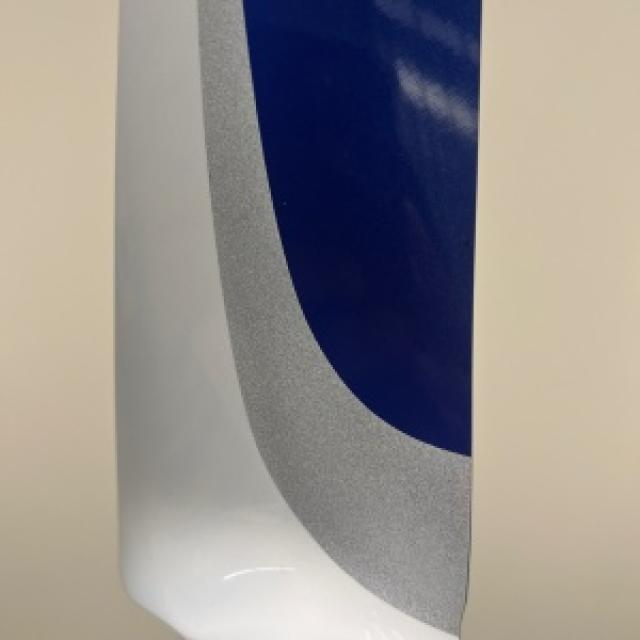healthy: (115, 0, 467, 638)
